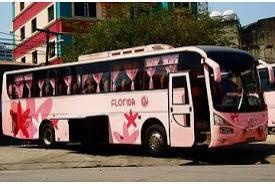bus: (3, 42, 270, 156)
